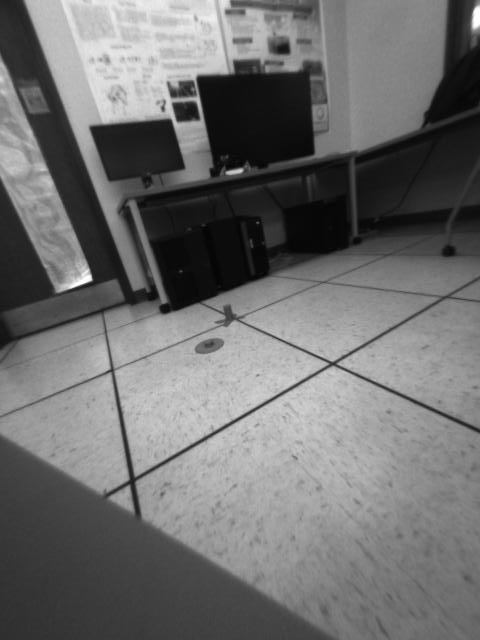X: (215, 305, 246, 327)
